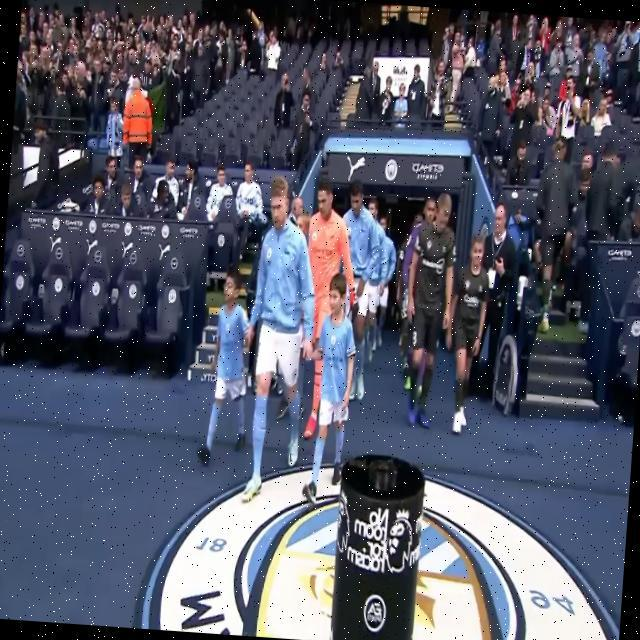Etihad Airways: (411, 162, 443, 180), (607, 247, 632, 261), (27, 216, 46, 229), (179, 226, 198, 238), (138, 224, 156, 235), (102, 222, 120, 233), (65, 220, 83, 230)
